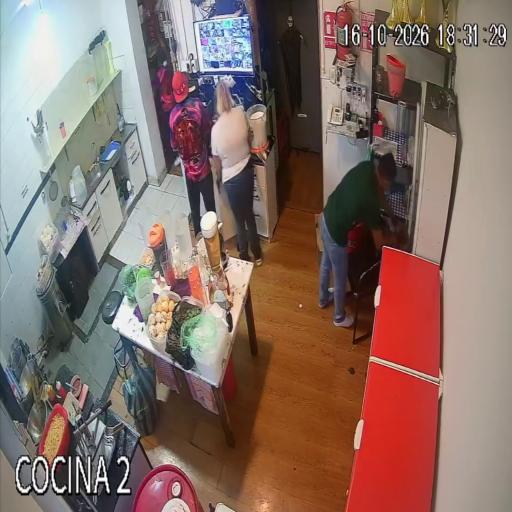Envase Ketchup: (56, 381, 65, 400)
Envase Llajua: (43, 383, 54, 402)
Jarra1: (150, 227, 167, 273)
Jarra2: (156, 209, 172, 247)
Jarra3: (171, 215, 189, 261)
Jarra4: (134, 278, 154, 321)
Persona1: (170, 71, 216, 235)
Persona2: (155, 48, 176, 167)
Persona3: (211, 81, 262, 265)
Persona4: (319, 153, 402, 327)
Taper: (40, 223, 61, 264)
Taper2: (181, 304, 230, 381)
Taper3: (166, 297, 203, 369)
Taper4: (146, 290, 180, 351)
